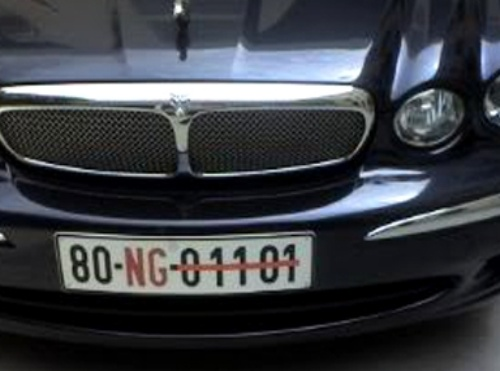plate: (46, 223, 319, 296)
